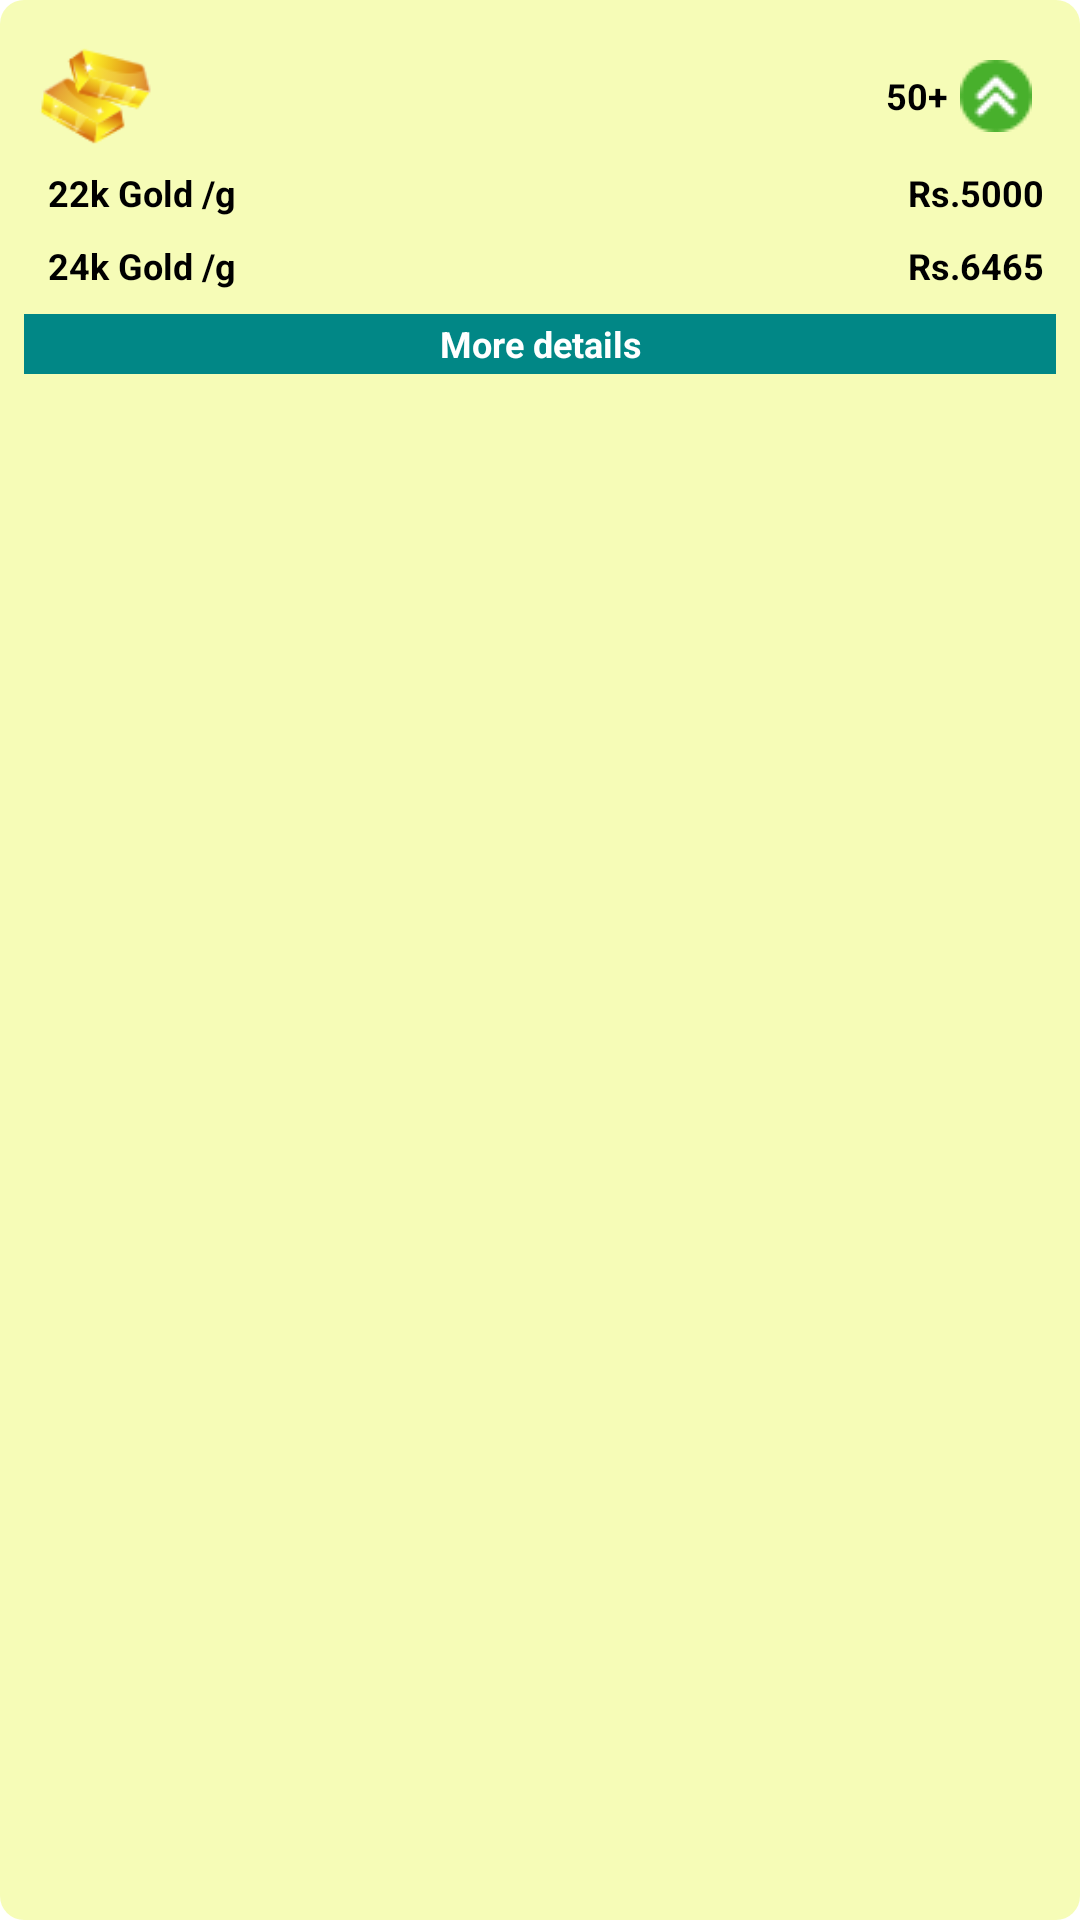

Screen size 1080x1920. Icon name, then its center in pixels as (x=x, y=y):
gold bar: (x=95, y=96)
